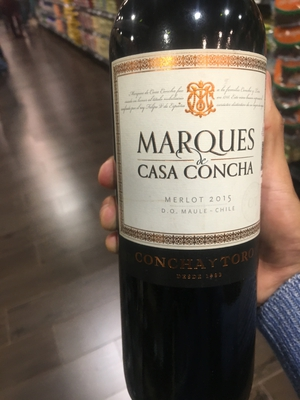marques de casa concha merlot: (97, 14, 286, 390)
